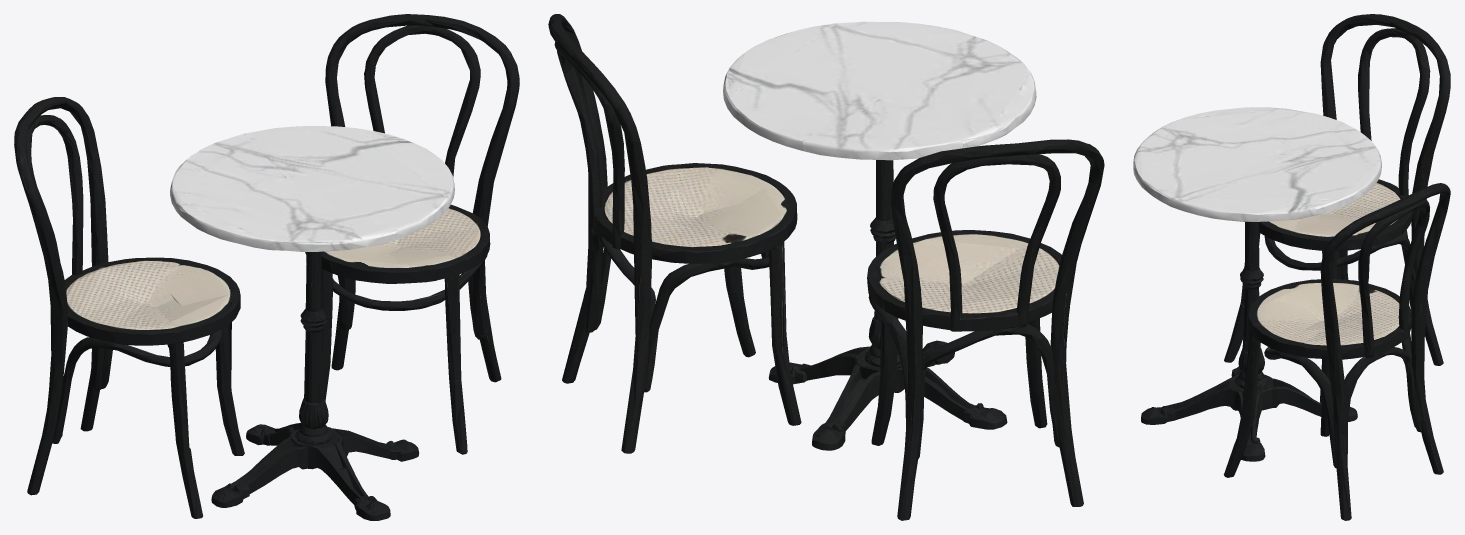
The model's file is bistro_table_chairs.glb.
The picture shows the model from 3 angles, left to right: view 1: azimuth 30°, elevation 25°; view 2: azimuth 150°, elevation 25°; view 3: azimuth 270°, elevation 25°; orthographic projection. The views are drawn at different scales.
Visible parts, largest first — view 1: Mesh_0; view 2: Mesh_0; view 3: Mesh_0.
Part boxes in pixels (x1,y1,x2,y2): Mesh_0: (14,14,519,520); Mesh_0: (548,14,1104,520); Mesh_0: (1133,14,1450,520).
Size of the model in its own units: 1.34 by 0.9 by 0.8403.
Materials: 1 (1 with a texture image).
